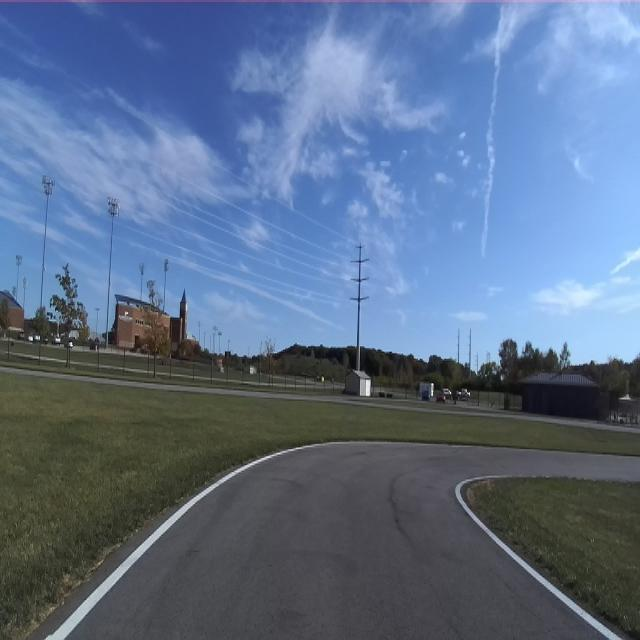white-line: (45, 441, 399, 639), (454, 476, 621, 639)
